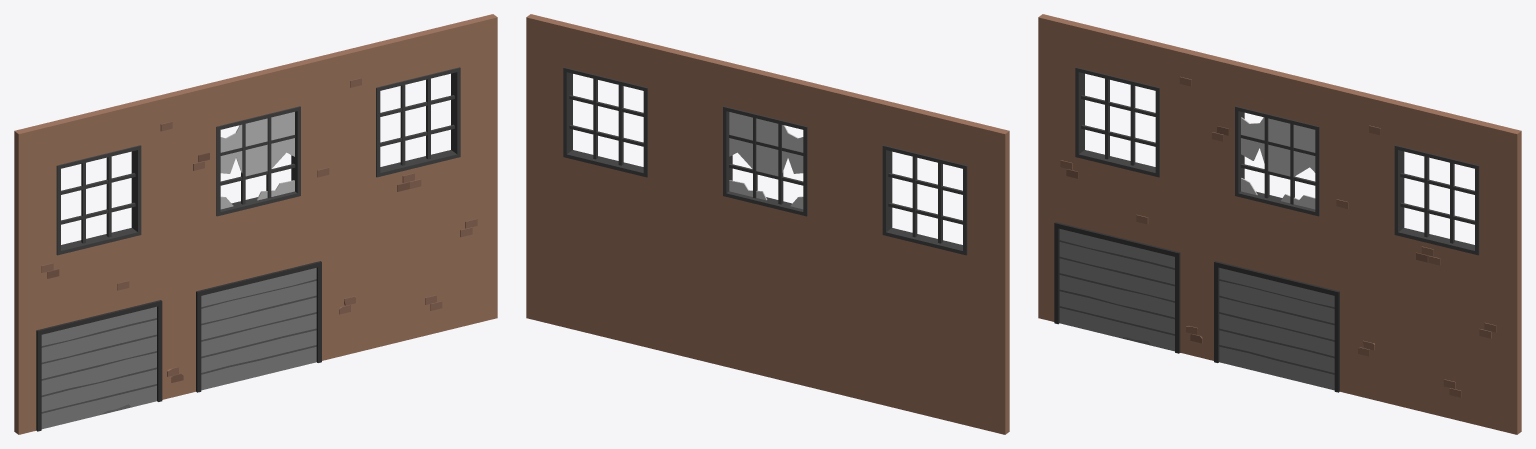
File: Wall_04.fbx
3 views of the same model, side by side, from view 1: azimuth 30°, elevation 25°; view 2: azimuth 150°, elevation 25°; view 3: azimuth 330°, elevation 25° (orthographic).
Parts seen in each view (by area): view 1: Wall_04; view 2: Wall_04; view 3: Wall_04.
Boxes of the visible parts, x1=… form: Wall_04: x1=14, y1=14, x2=497, y2=434; Wall_04: x1=526, y1=14, x2=1009, y2=434; Wall_04: x1=1038, y1=14, x2=1521, y2=434.
Size of the model in its own units: 1500 by 900 by 36.83.
